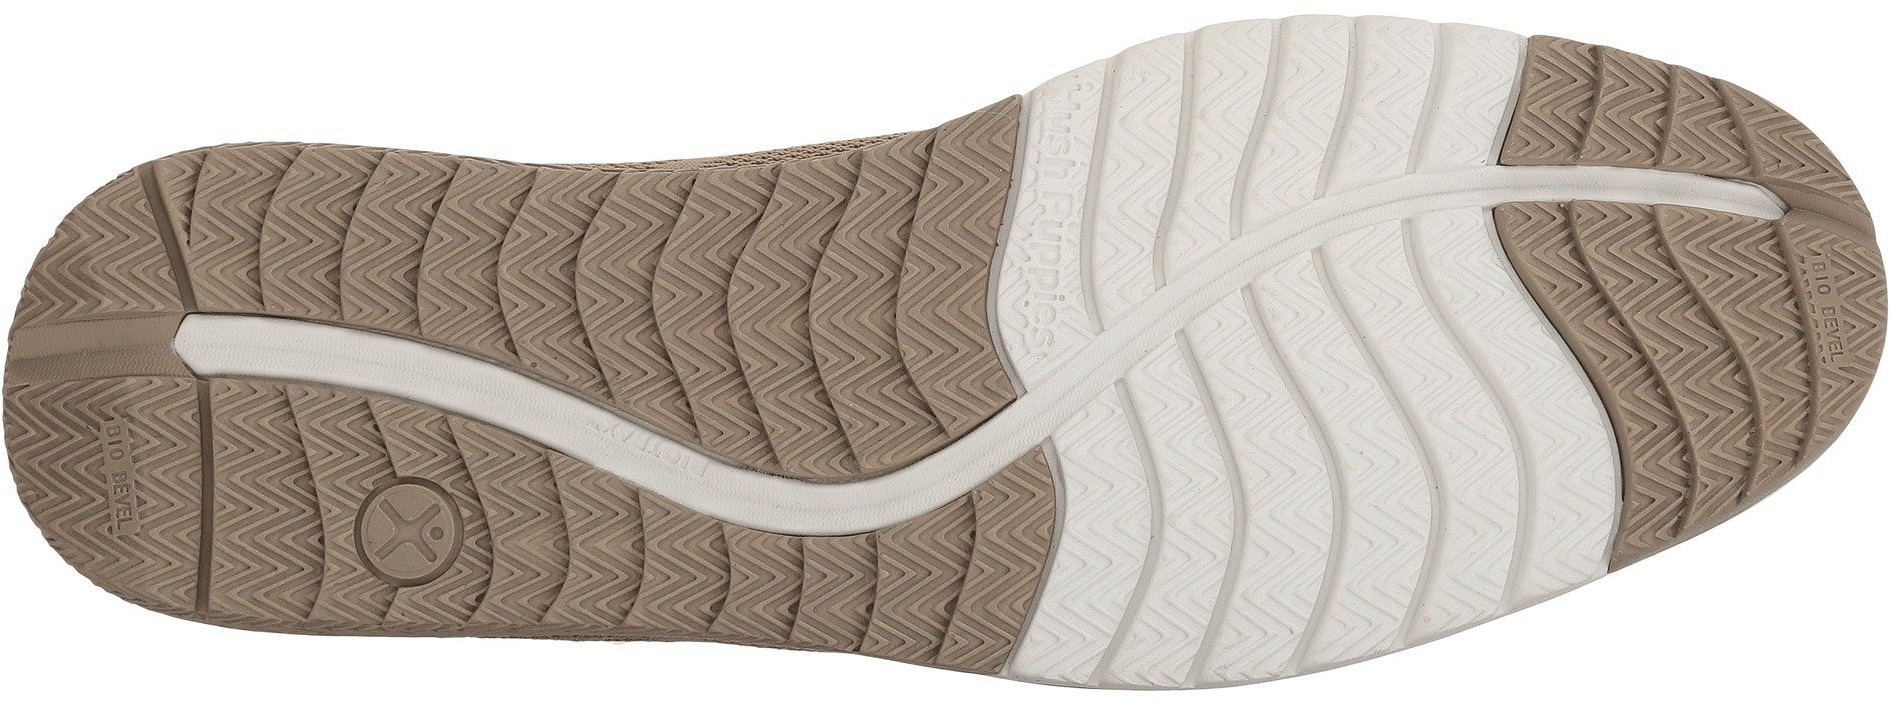chevron: (1260, 305, 1526, 592), (746, 172, 978, 398), (1557, 215, 1778, 450), (516, 169, 736, 387), (1066, 419, 1255, 613), (472, 477, 627, 631), (1125, 61, 1270, 224), (1284, 27, 1431, 165)
circle: (351, 470, 468, 591)
ribbon: (215, 190, 491, 469), (709, 400, 923, 593)
text: (89, 424, 133, 466)
